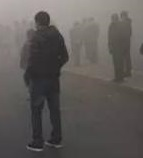person: (24, 9, 67, 151), (106, 13, 127, 83), (117, 10, 135, 78), (20, 29, 37, 101), (68, 19, 85, 66), (84, 17, 99, 64)
